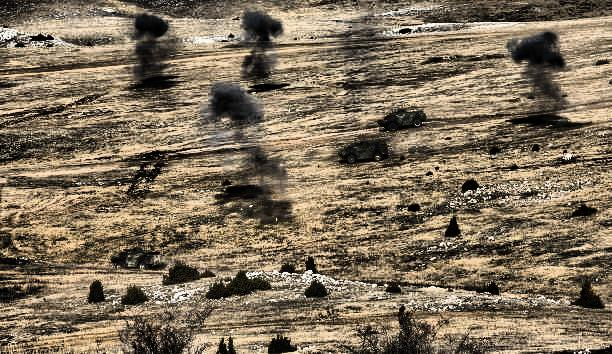military-vehicle: (110, 248, 162, 271), (378, 108, 426, 132), (337, 141, 388, 163)
